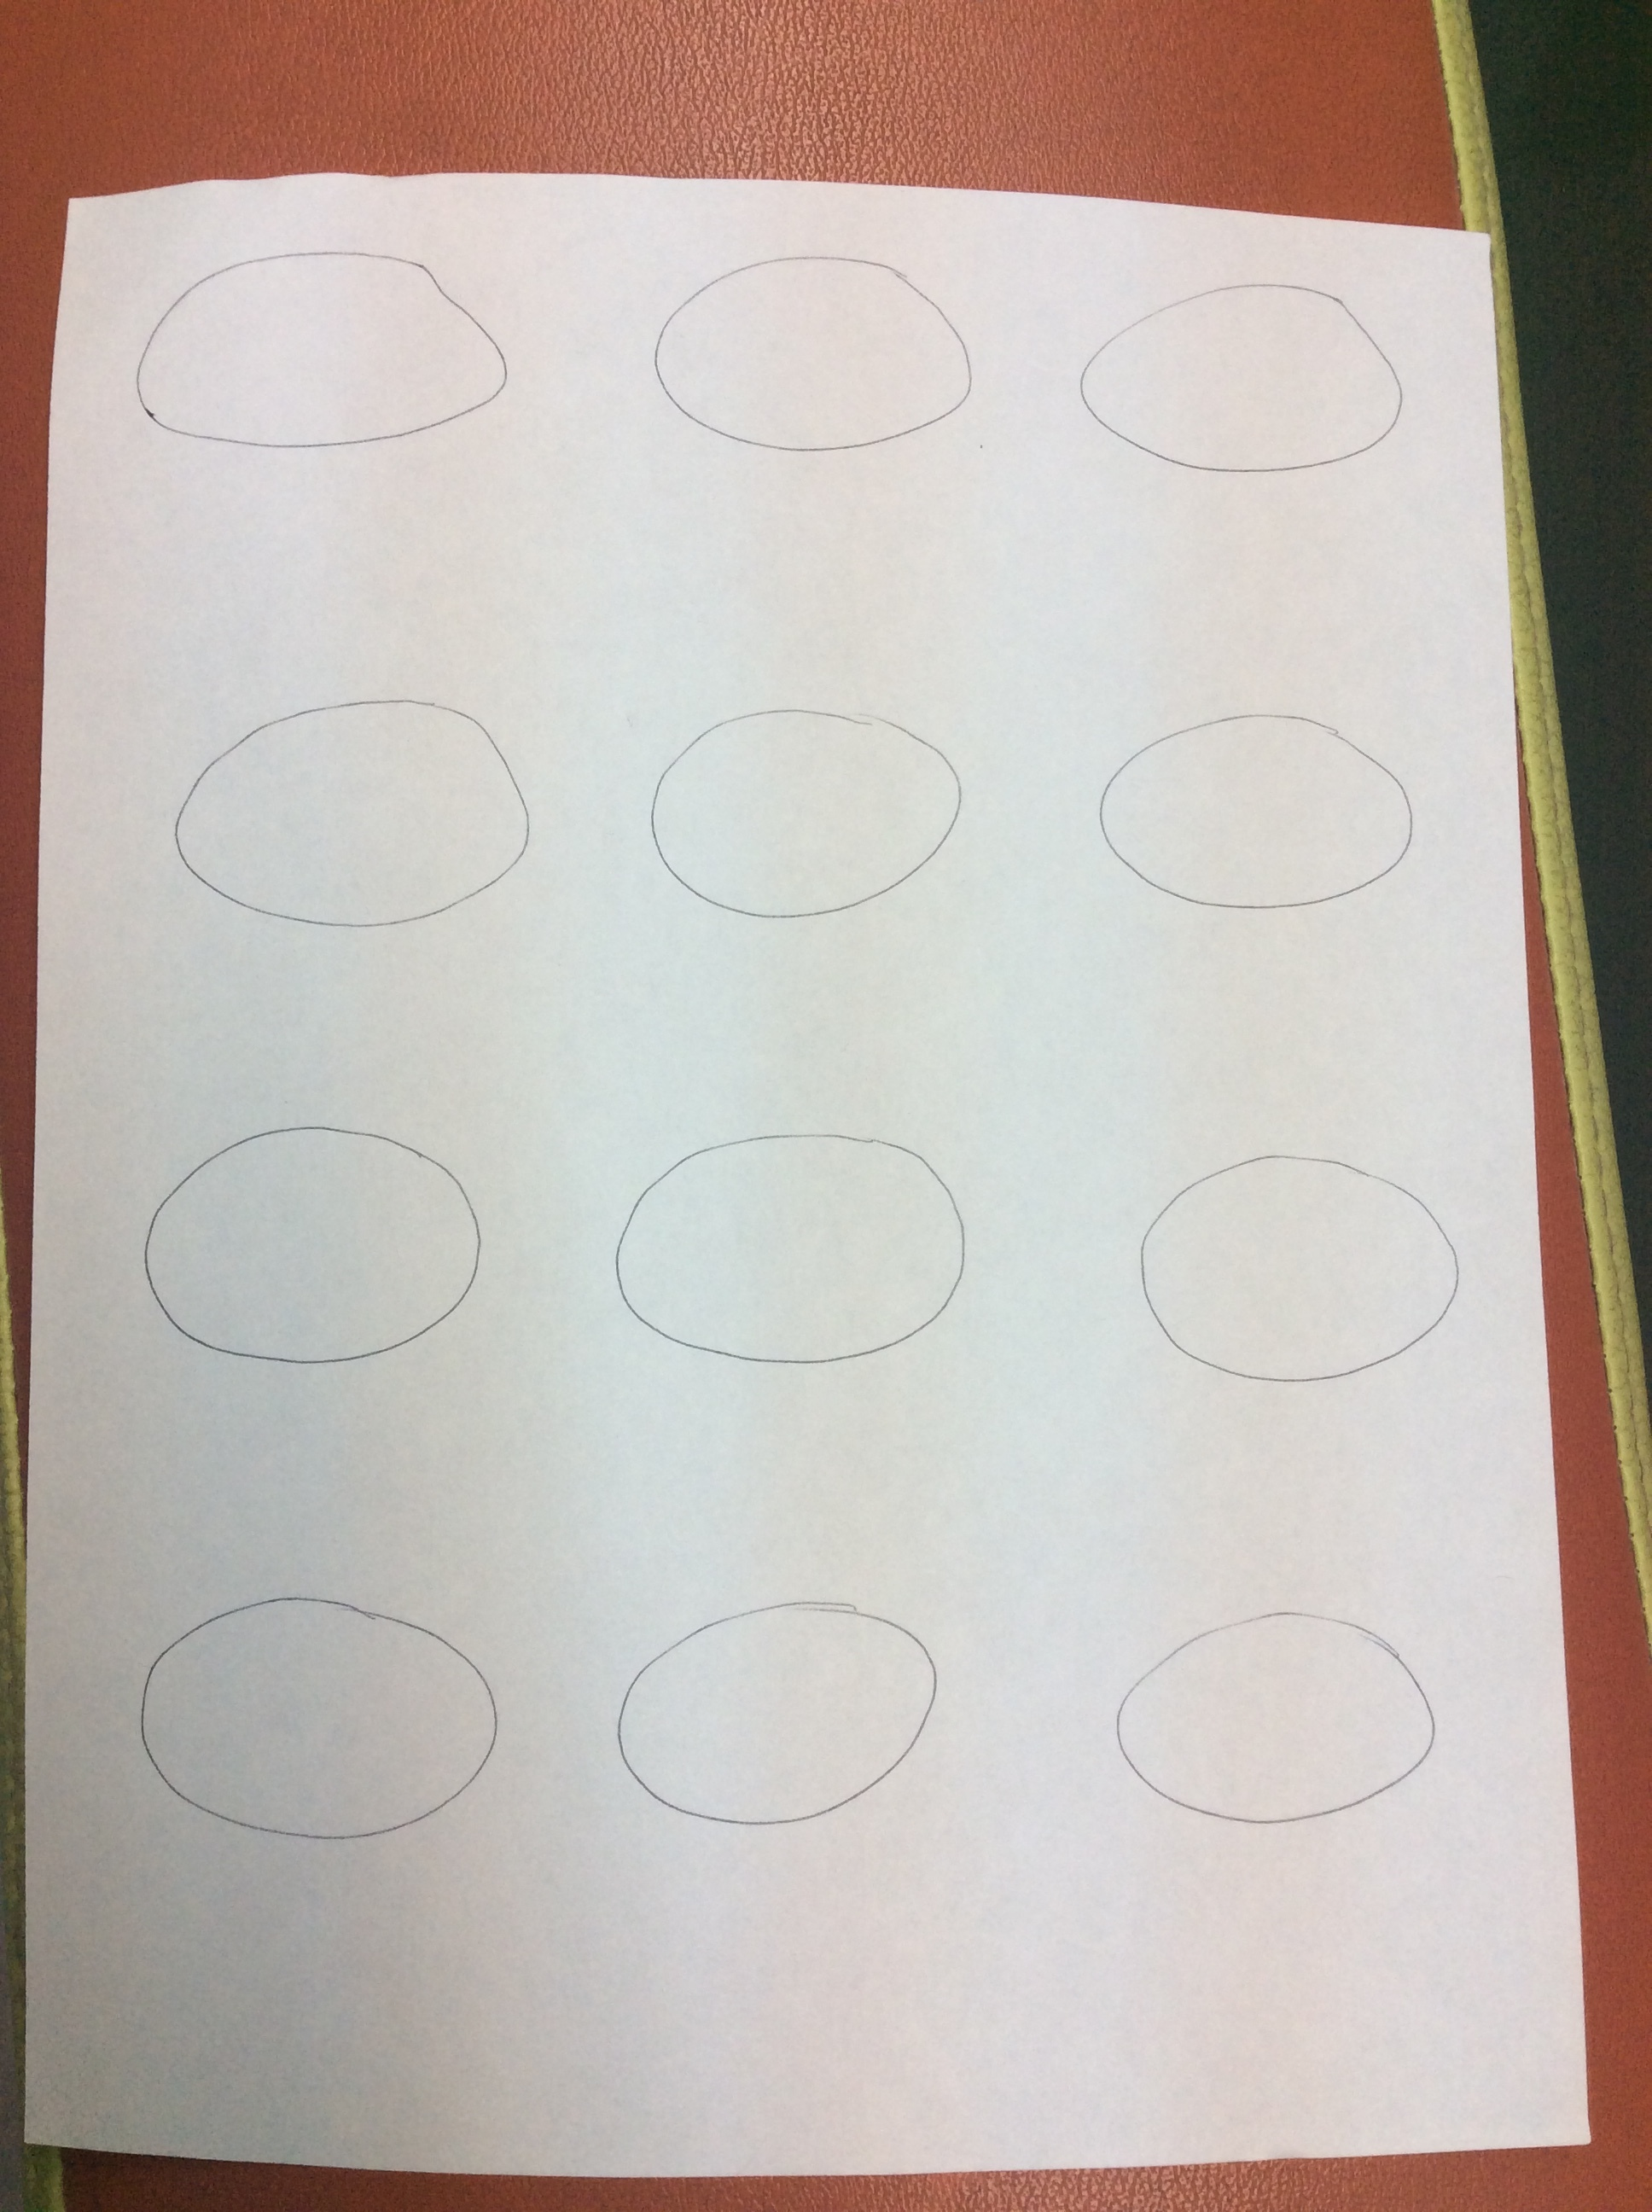start_end: (108, 1560, 510, 1860), (588, 1096, 984, 1386), (111, 1100, 500, 1386), (571, 1563, 958, 1849), (158, 685, 555, 946), (1064, 680, 1432, 956), (115, 232, 534, 472), (1104, 1140, 1480, 1404), (616, 232, 991, 484), (623, 673, 972, 942), (1093, 1584, 1449, 1846), (1071, 250, 1418, 512)
